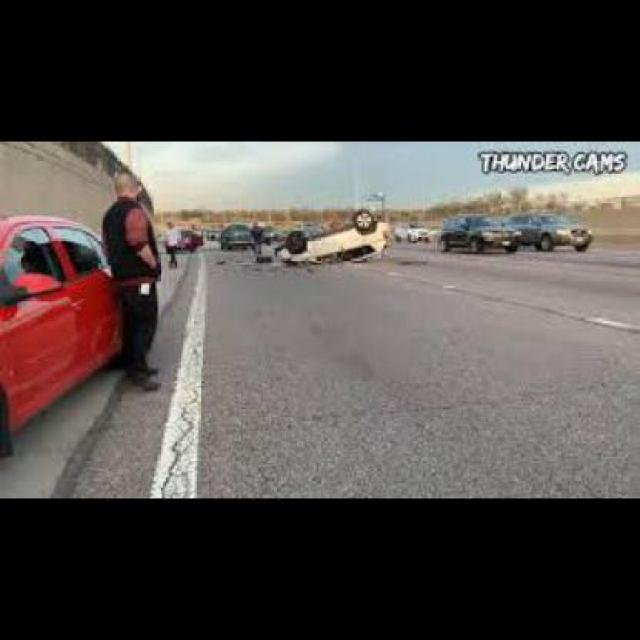accident: (272, 206, 394, 268)
